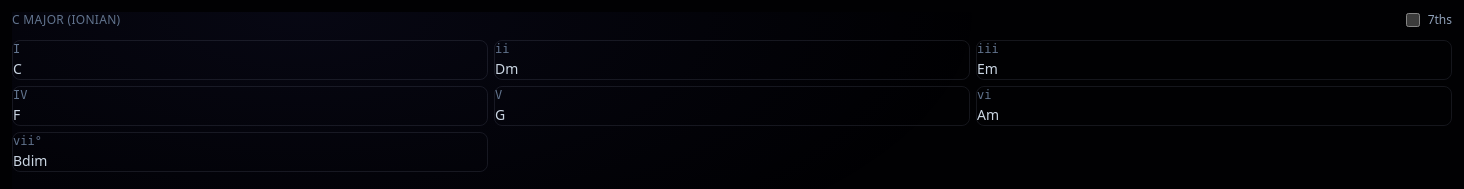
Test: ChordsInKey › the 7ths toggle switches to seventh chords
Expected: the text "C" is shown, [13,59,22,79]
Click the checkbox labelled "7ths".
click(1413, 20)  # box [1406,13,1420,27]
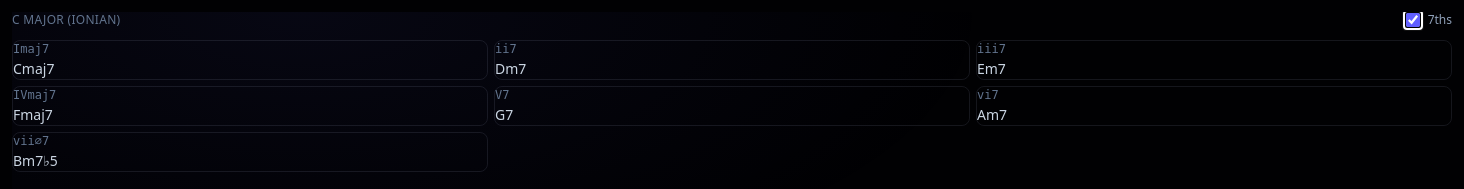
Expected: the text "Cmaj7" is shown, [13,59,54,79]
Expected: the text "Bm7♭5" is shown, [13,151,58,171]
